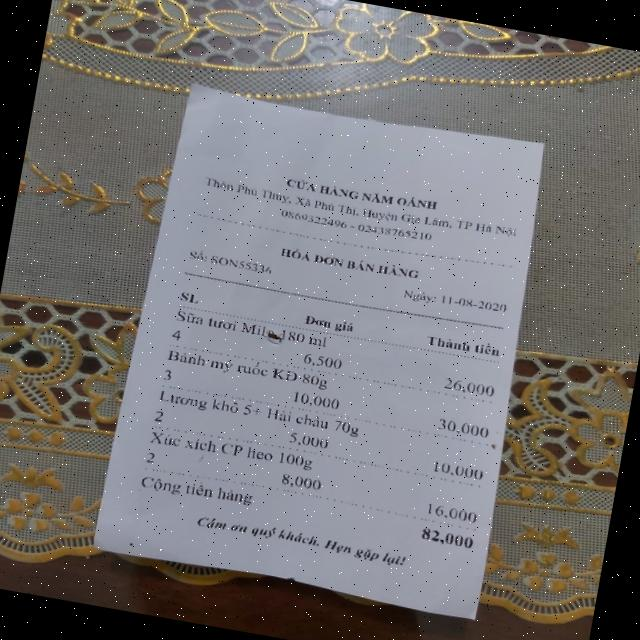Date: (438, 288, 512, 316)
Store_Name: (284, 173, 443, 214)
amount_number: (418, 526, 476, 552)
label_total: (140, 468, 259, 509)
